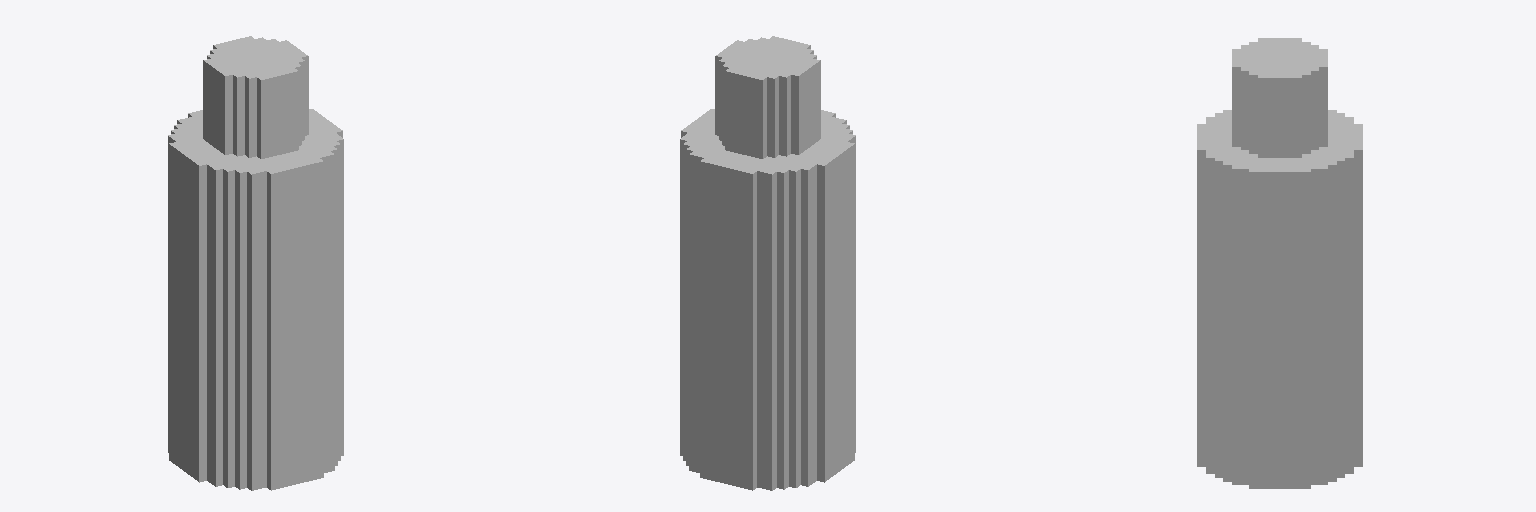
The model's file is bottle.obj.
3 renders of one model, left to right at view 1: azimuth 30°, elevation 25°; view 2: azimuth 150°, elevation 25°; view 3: azimuth 270°, elevation 25°, orthographic.
Bounding box in the file's own units: 19 × 50 × 19.